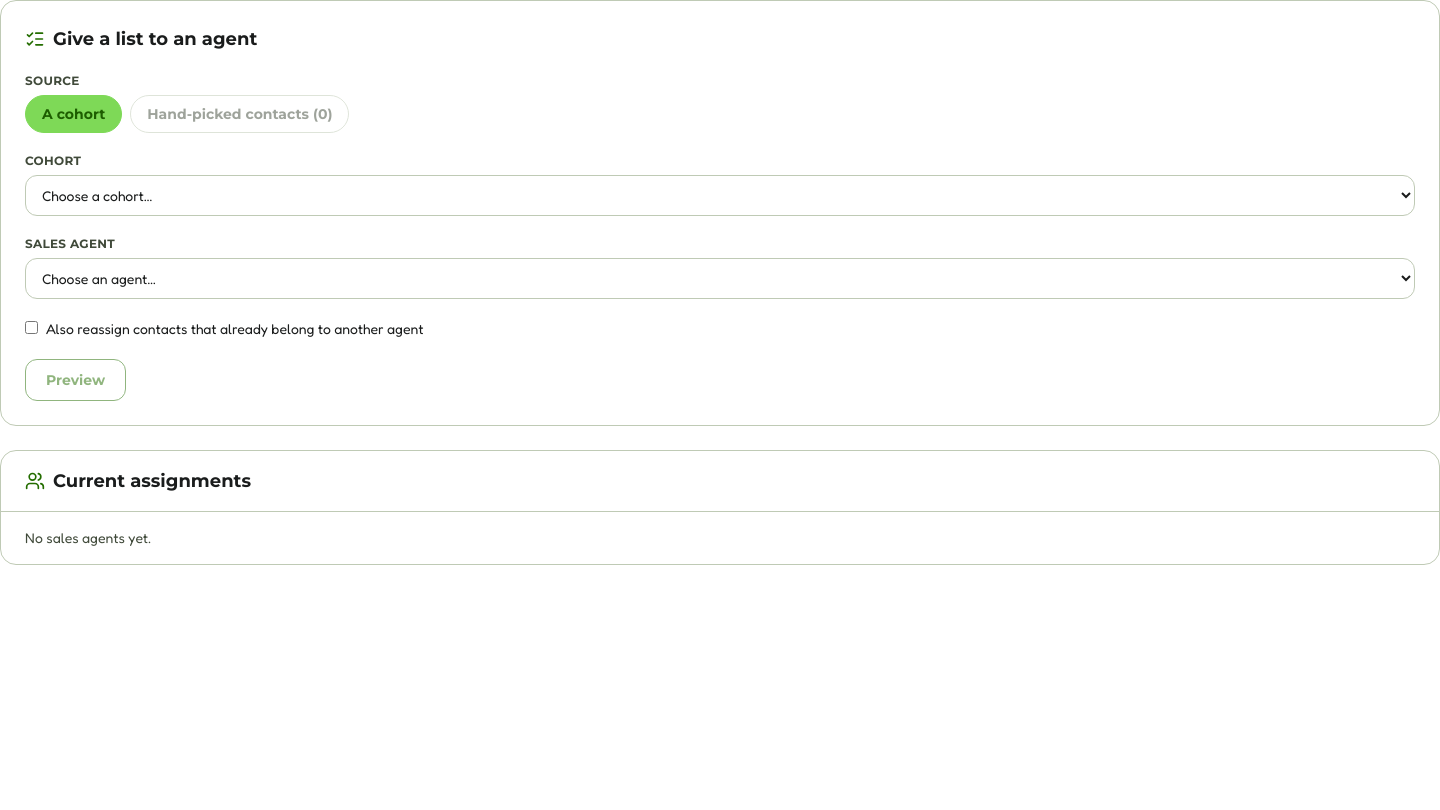
Test case: AssignListsPanel › shows the preview counts after choosing a cohort and an agent
Step 1. Select "PPC — batch 2 (239)" in the dropdown labelled "Cohort" → (720, 196), box [25,175,1415,216]
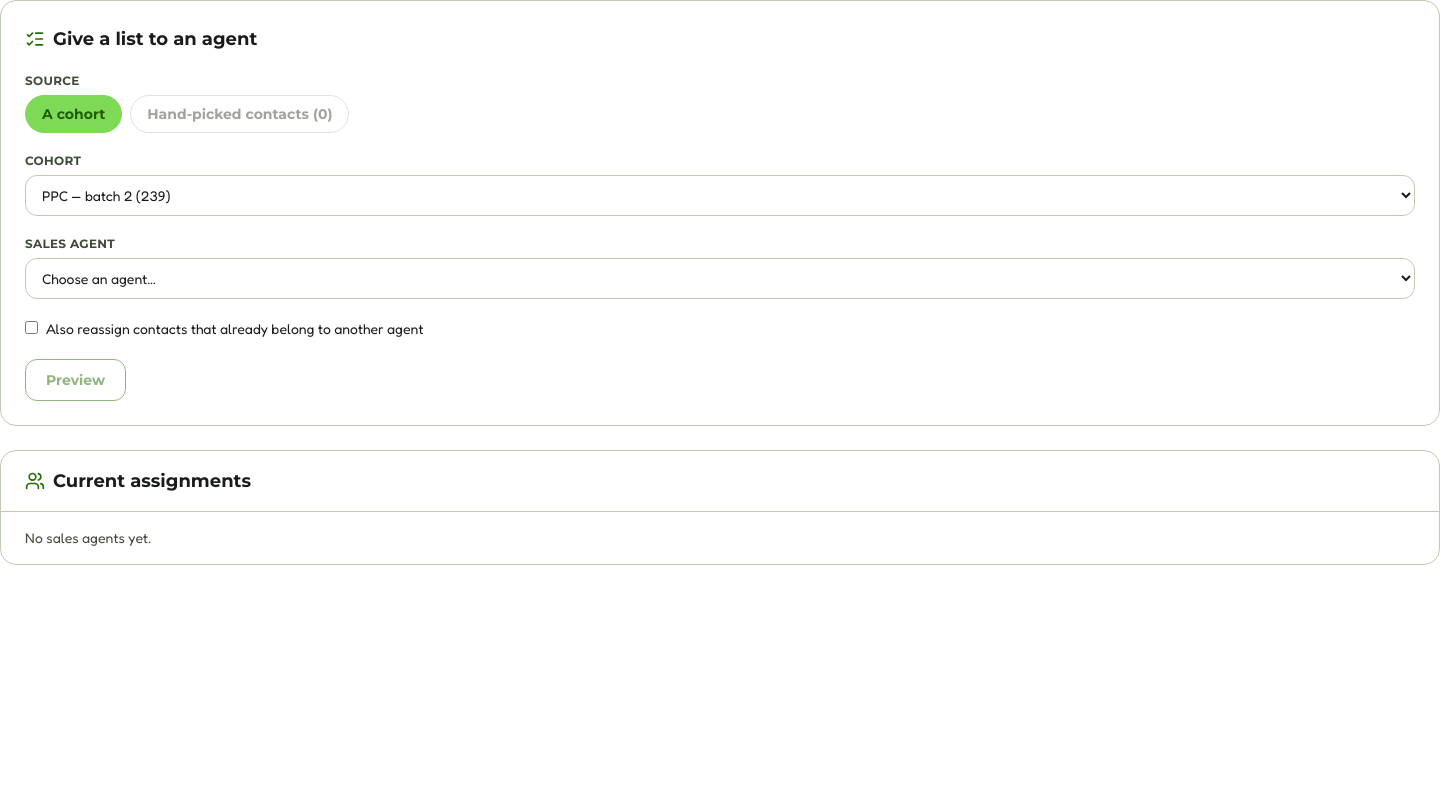
Step 2. Select "Ayesha" in the dropdown labelled "Sales agent" → (720, 278), box [25,258,1415,299]
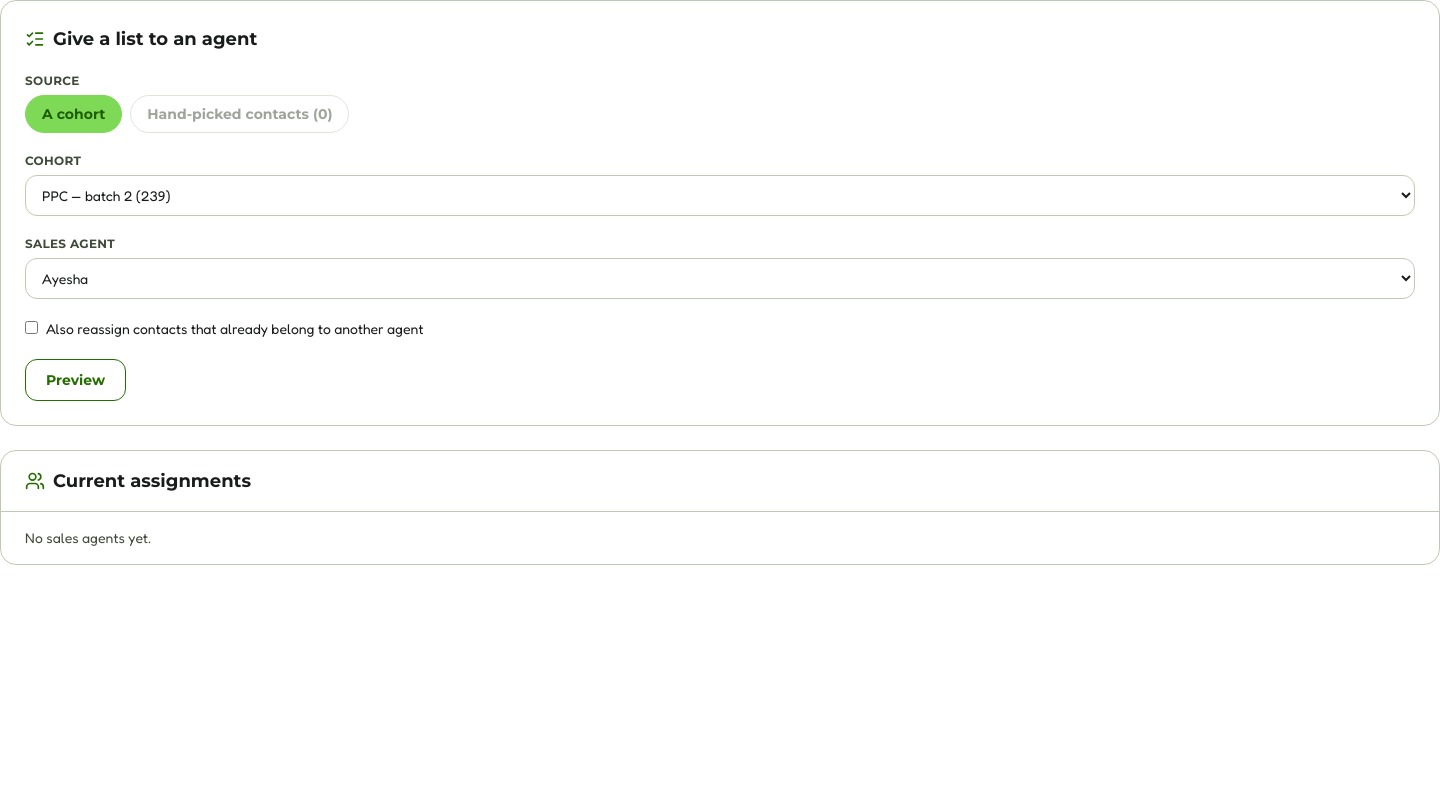
Step 3. Click the button "Preview" → (76, 380), box [25,359,126,401]
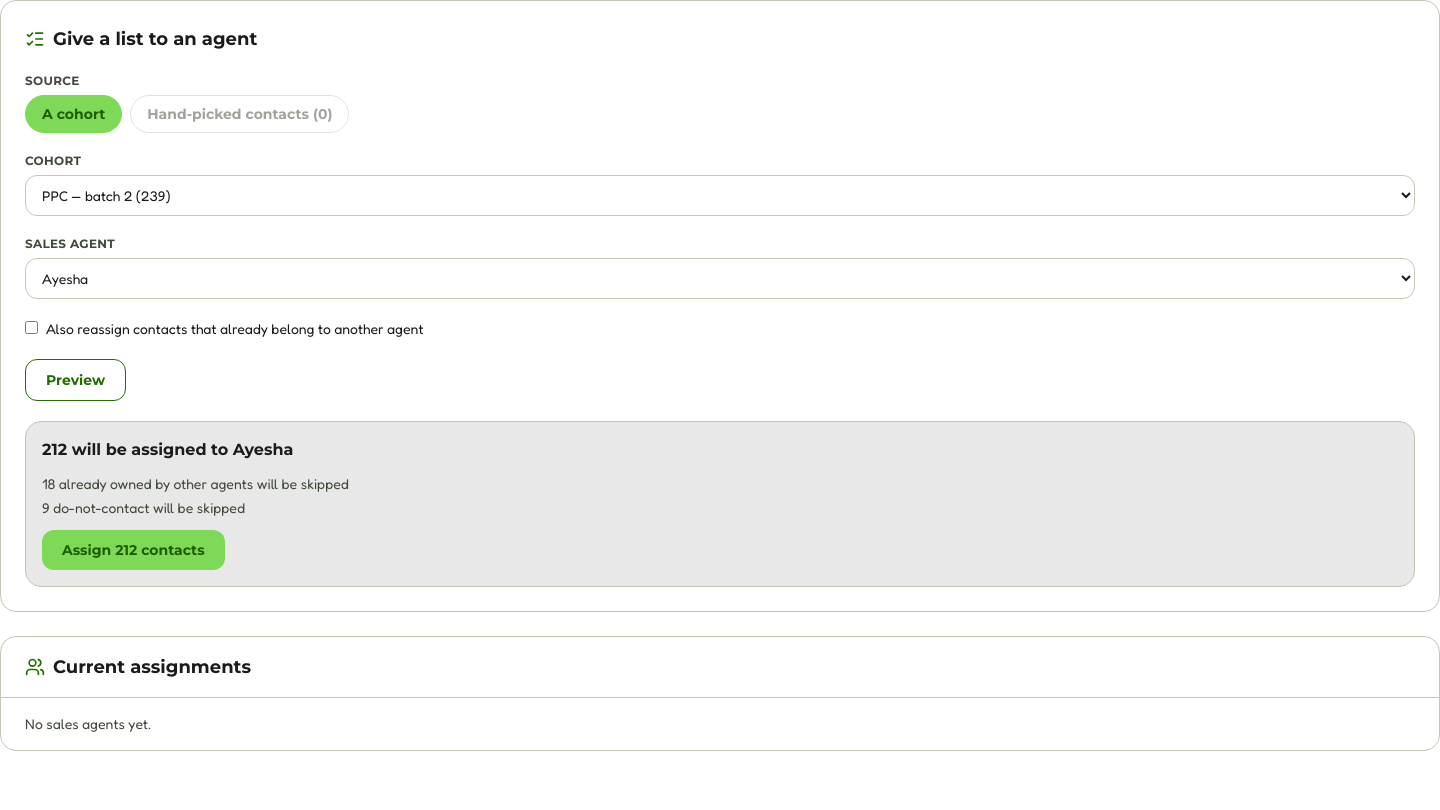
Check: the text "212 will be assigned to Ayesha" is shown, box [42,440,293,459]
Check: the list item "18 already owned by other agents will be skipped" is shown, box [42,475,349,492]
Check: the list item "9 do-not-contact will be skipped" is shown, box [42,499,245,516]
